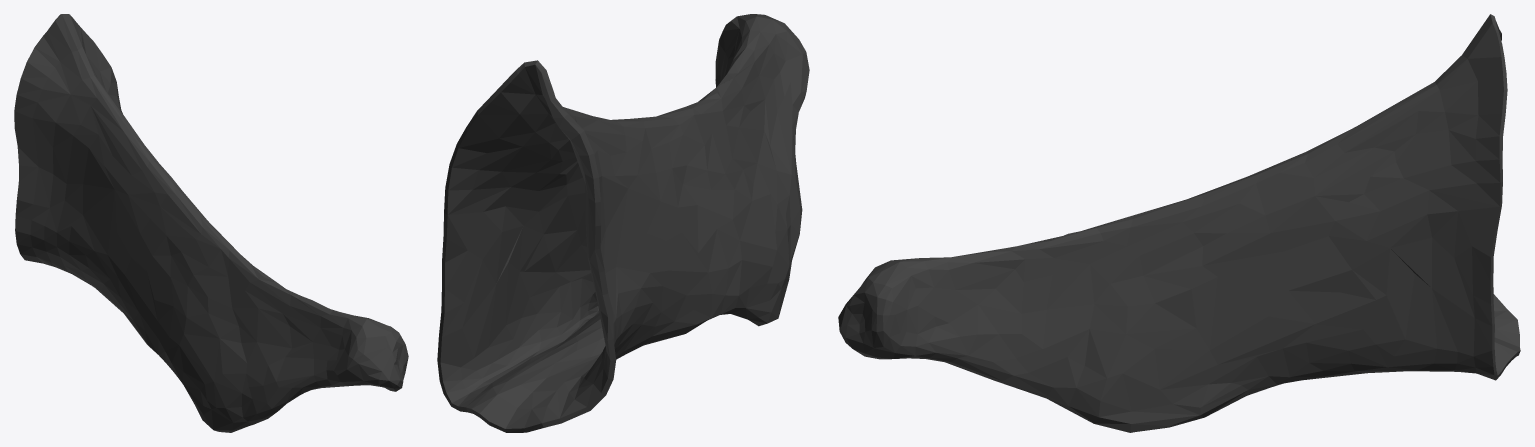
Rendered from c7_spinous_process.glb.
3 renders of one model, left to right at view 1: azimuth 30°, elevation 25°; view 2: azimuth 150°, elevation 25°; view 3: azimuth 270°, elevation 25°, orthographic. The views are drawn at different scales.
Parts seen in each view (by area): view 1: c7_spinous_process; view 2: c7_spinous_process; view 3: c7_spinous_process.
Part boxes in pixels (x1=…): c7_spinous_process: x1=14, y1=14, x2=408, y2=432; c7_spinous_process: x1=437, y1=14, x2=809, y2=432; c7_spinous_process: x1=838, y1=14, x2=1520, y2=432.
Size of the model in its own units: 10.17 by 18.21 by 29.15.
Materials: 1 (1 with a texture image).
